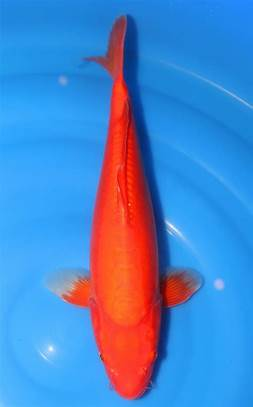red: (44, 15, 204, 401)
